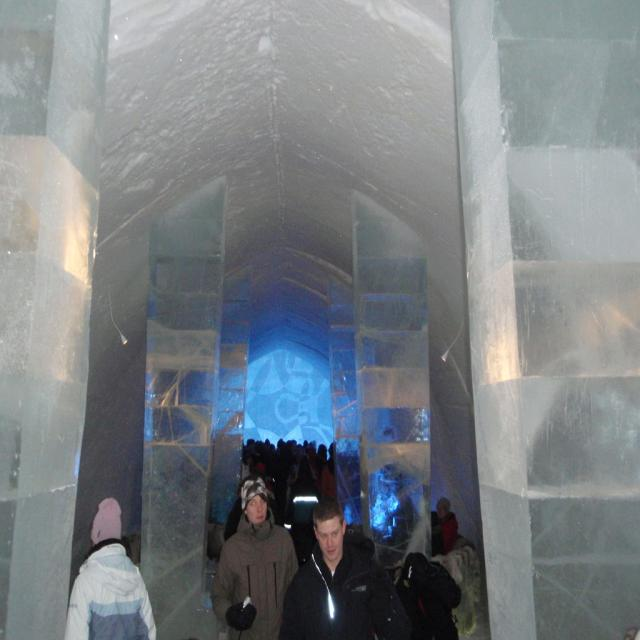Person: (64, 438, 462, 640)
